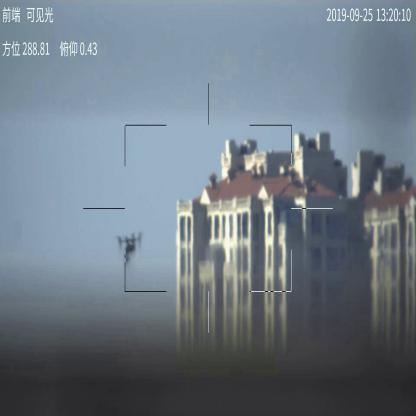uav: (114, 230, 144, 262)
